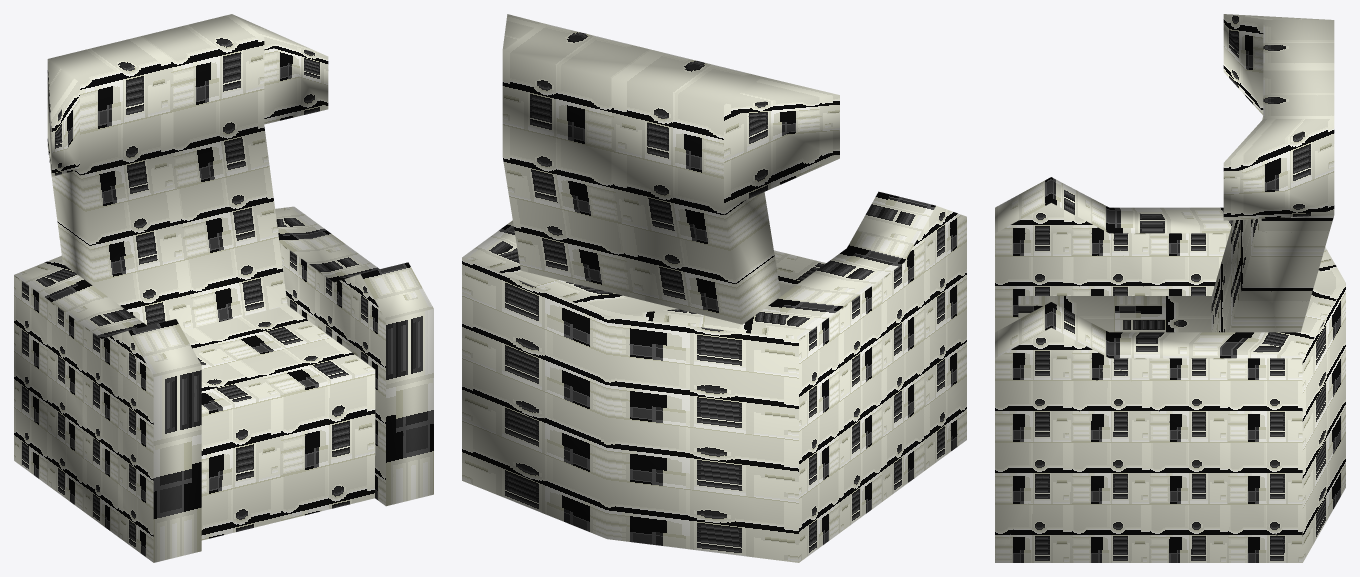
The model's file is 3492IMEL01_09.gltf.
3 renders of one model, left to right at view 1: azimuth 30°, elevation 25°; view 2: azimuth 150°, elevation 25°; view 3: azimuth 270°, elevation 25°, orthographic. The views are drawn at different scales.
Visible parts, largest first — view 1: 3492IMEL01_09; view 2: 3492IMEL01_09; view 3: 3492IMEL01_09.
Boxes of the visible parts, x1,y1,x2,y2 form: 3492IMEL01_09: [14, 14, 433, 562]; 3492IMEL01_09: [462, 14, 966, 562]; 3492IMEL01_09: [995, 14, 1345, 562].
Size of the model in its own units: 0.9502 by 1.23 by 0.9355.
1 material, 1 textured.
